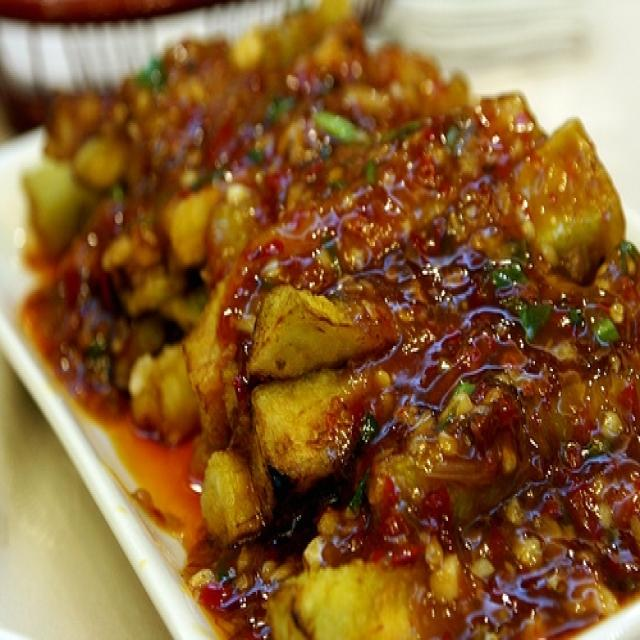鸡蛋料理: (23, 52, 613, 613)
